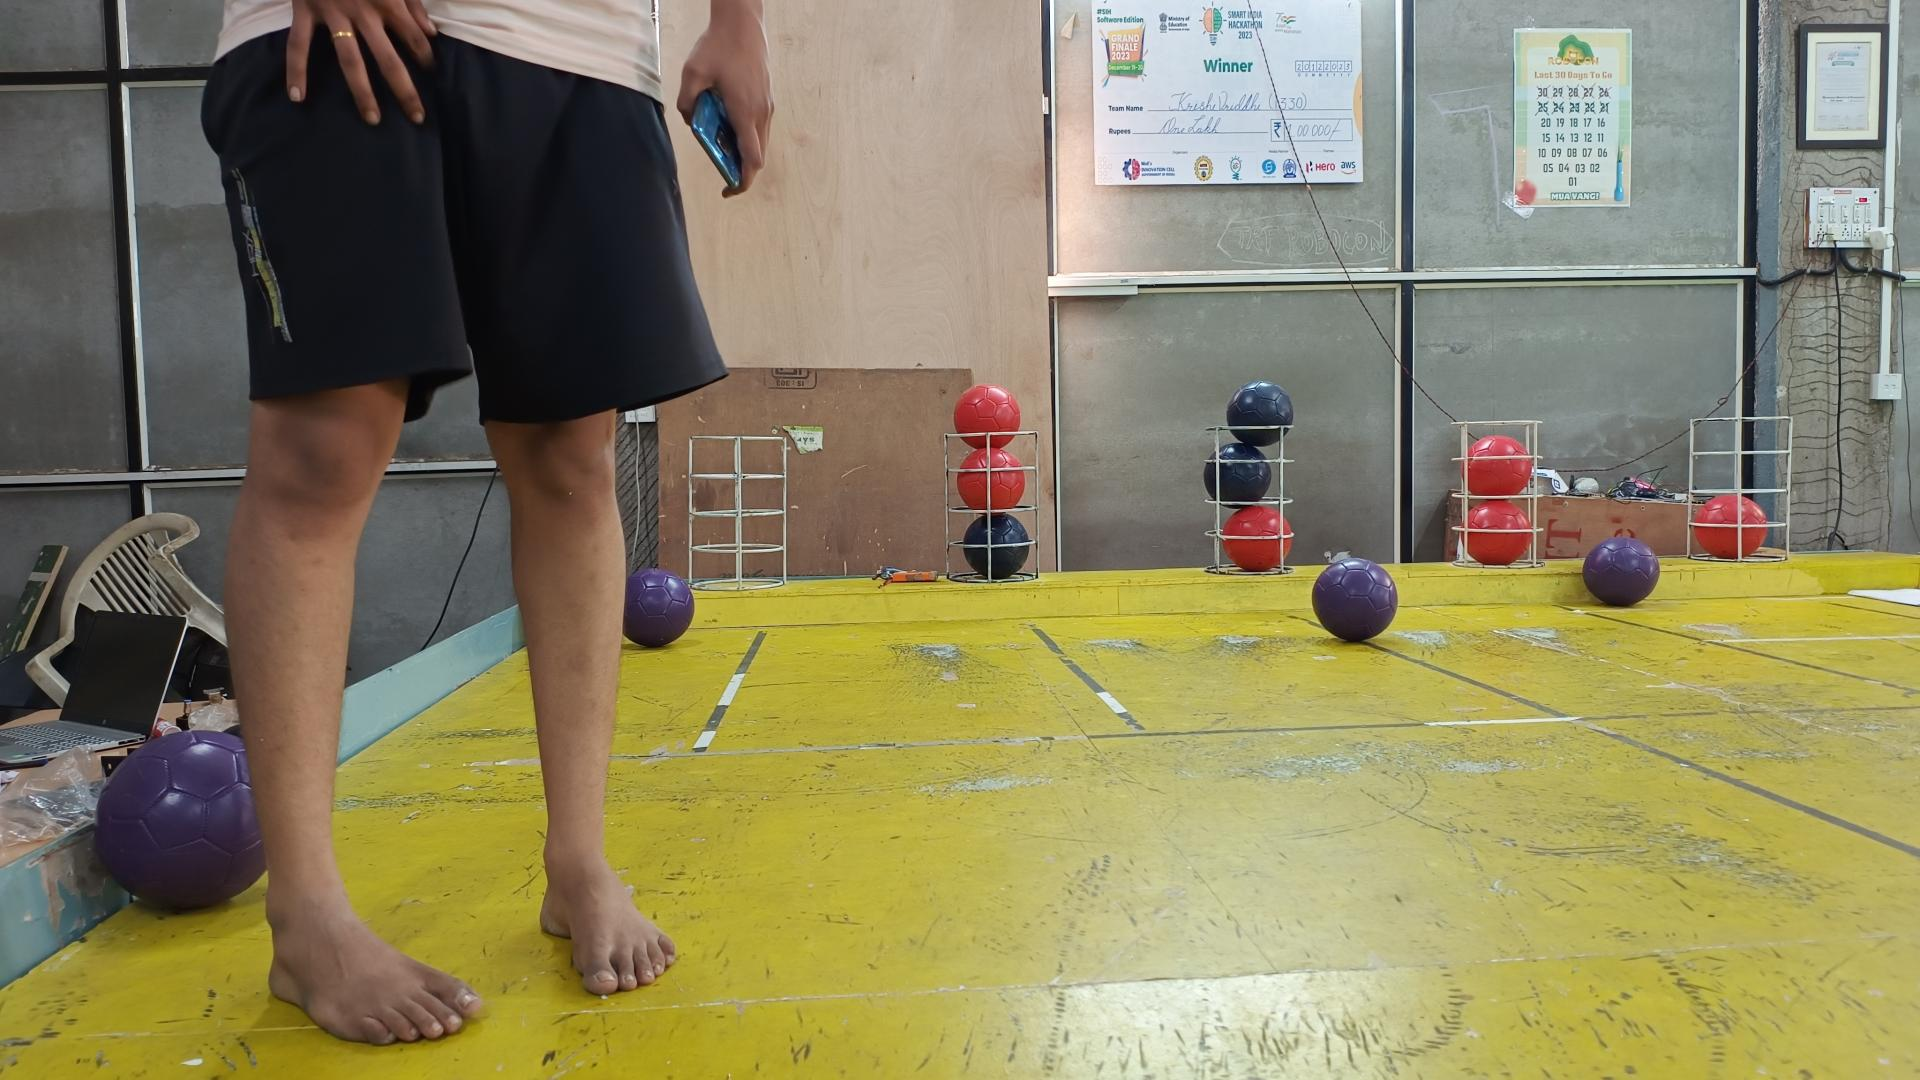dhoka: (964, 514, 1031, 578), (1226, 382, 1294, 446), (1204, 443, 1271, 502)
laale: (1222, 506, 1294, 574), (1692, 495, 1766, 559), (1466, 498, 1534, 566), (952, 386, 1021, 450), (956, 450, 1023, 510), (1466, 435, 1534, 495)
